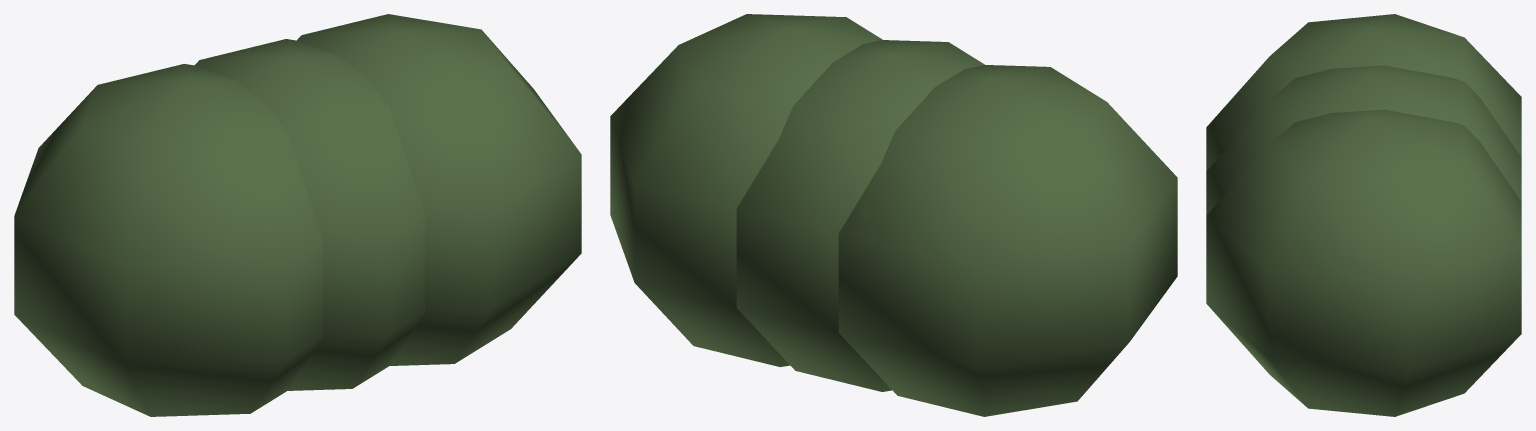
Rendered from Nature_BerryBush_Bare.glb.
The picture shows the model from 3 angles, left to right: view 1: azimuth 30°, elevation 25°; view 2: azimuth 150°, elevation 25°; view 3: azimuth 270°, elevation 25°; orthographic projection. The views are drawn at different scales.
Visible parts, largest first — view 1: _MeshInstance3D_1108, _MeshInstance3D_1110, _MeshInstance3D_1109; view 2: _MeshInstance3D_1108, _MeshInstance3D_1110, _MeshInstance3D_1109; view 3: _MeshInstance3D_1110, _MeshInstance3D_1108, _MeshInstance3D_1109.
Part boxes in pixels (bbox=[...]): _MeshInstance3D_1108: bbox=[14, 64, 322, 416]; _MeshInstance3D_1110: bbox=[297, 14, 581, 365]; _MeshInstance3D_1109: bbox=[194, 39, 424, 390]; _MeshInstance3D_1108: bbox=[838, 65, 1177, 416]; _MeshInstance3D_1110: bbox=[610, 14, 882, 366]; _MeshInstance3D_1109: bbox=[736, 40, 984, 391]; _MeshInstance3D_1110: bbox=[1206, 109, 1521, 416]; _MeshInstance3D_1108: bbox=[1206, 14, 1521, 170]; _MeshInstance3D_1109: bbox=[1206, 65, 1521, 215].
Bounding box in the file's own units: 1.53 × 0.9 × 0.904.
